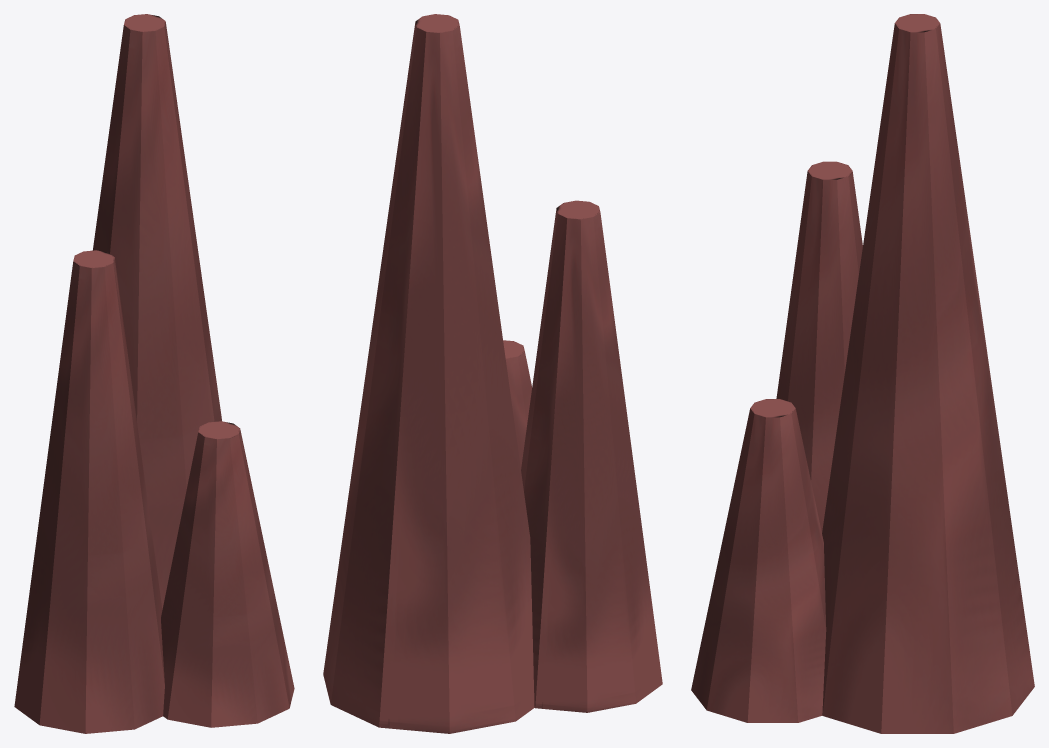
File: MudfishHome.glb
The picture shows the model from 3 angles, left to right: view 1: azimuth 30°, elevation 25°; view 2: azimuth 150°, elevation 25°; view 3: azimuth 270°, elevation 25°; orthographic projection. The views are drawn at different scales.
Parts seen in each view (by area): view 1: Cylinder.002, Cylinder, Cylinder.001; view 2: Cylinder, Cylinder.002, Cylinder.001; view 3: Cylinder, Cylinder.001, Cylinder.002.
Part boxes in pixels (x1=…): Cylinder.002: x1=14, y1=250, x2=164, y2=733; Cylinder: x1=92, y1=14, x2=221, y2=609; Cylinder.001: x1=161, y1=421, x2=294, y2=727; Cylinder: x1=323, y1=14, x2=534, y2=733; Cylinder.002: x1=521, y1=200, x2=662, y2=712; Cylinder.001: x1=503, y1=340, x2=532, y2=468; Cylinder: x1=822, y1=14, x2=1034, y2=733; Cylinder.001: x1=691, y1=399, x2=826, y2=722; Cylinder.002: x1=776, y1=161, x2=862, y2=532.
Bounding box in the file's own units: 0.5761 × 1.38 × 0.6459.
1 material, 1 textured.
